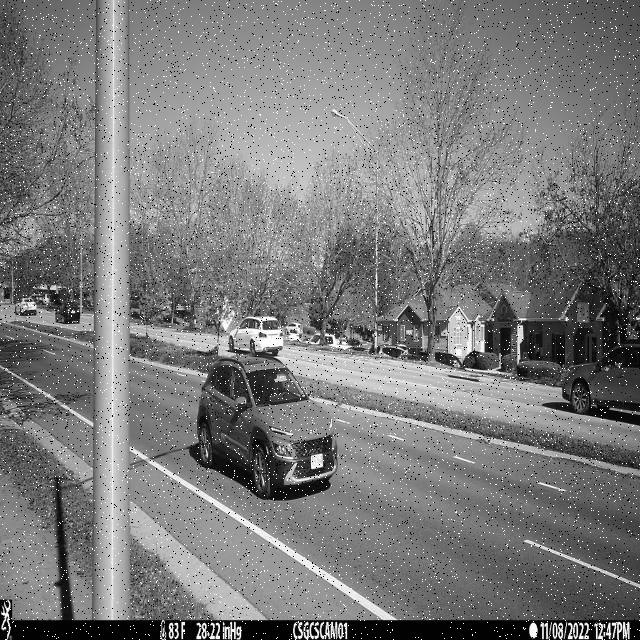SUV: (197, 357, 340, 500)
